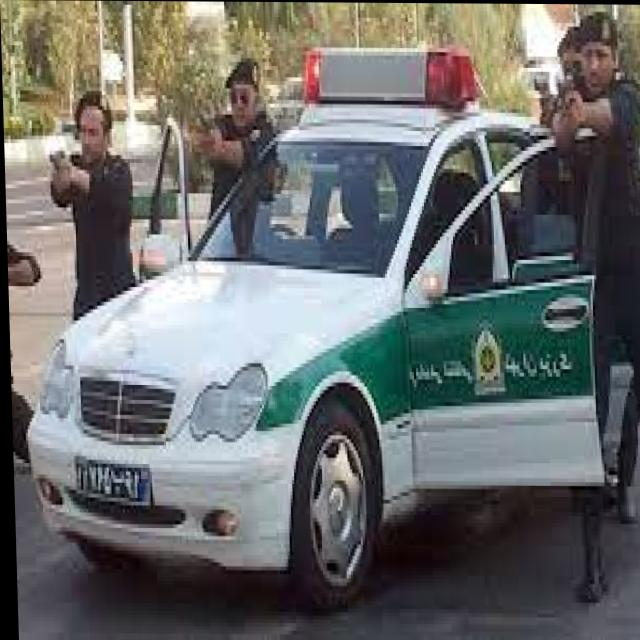licence: (73, 448, 156, 509)
